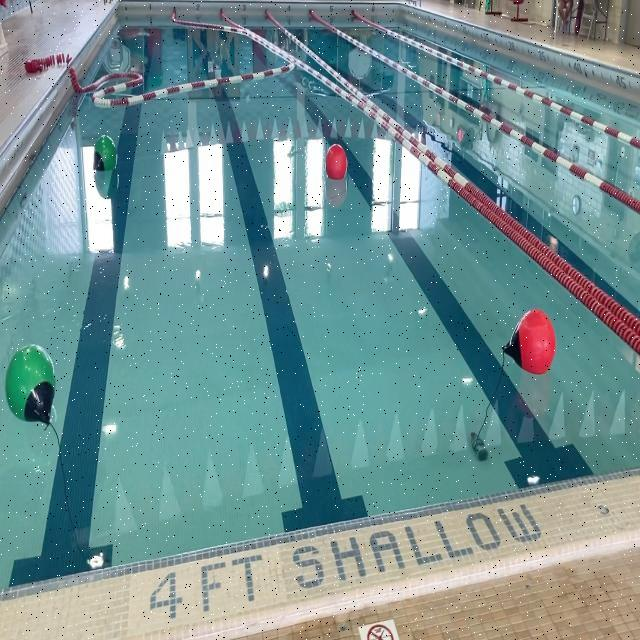buoy: (6, 344, 55, 427), (501, 308, 557, 376), (92, 132, 116, 179), (324, 140, 349, 183)
